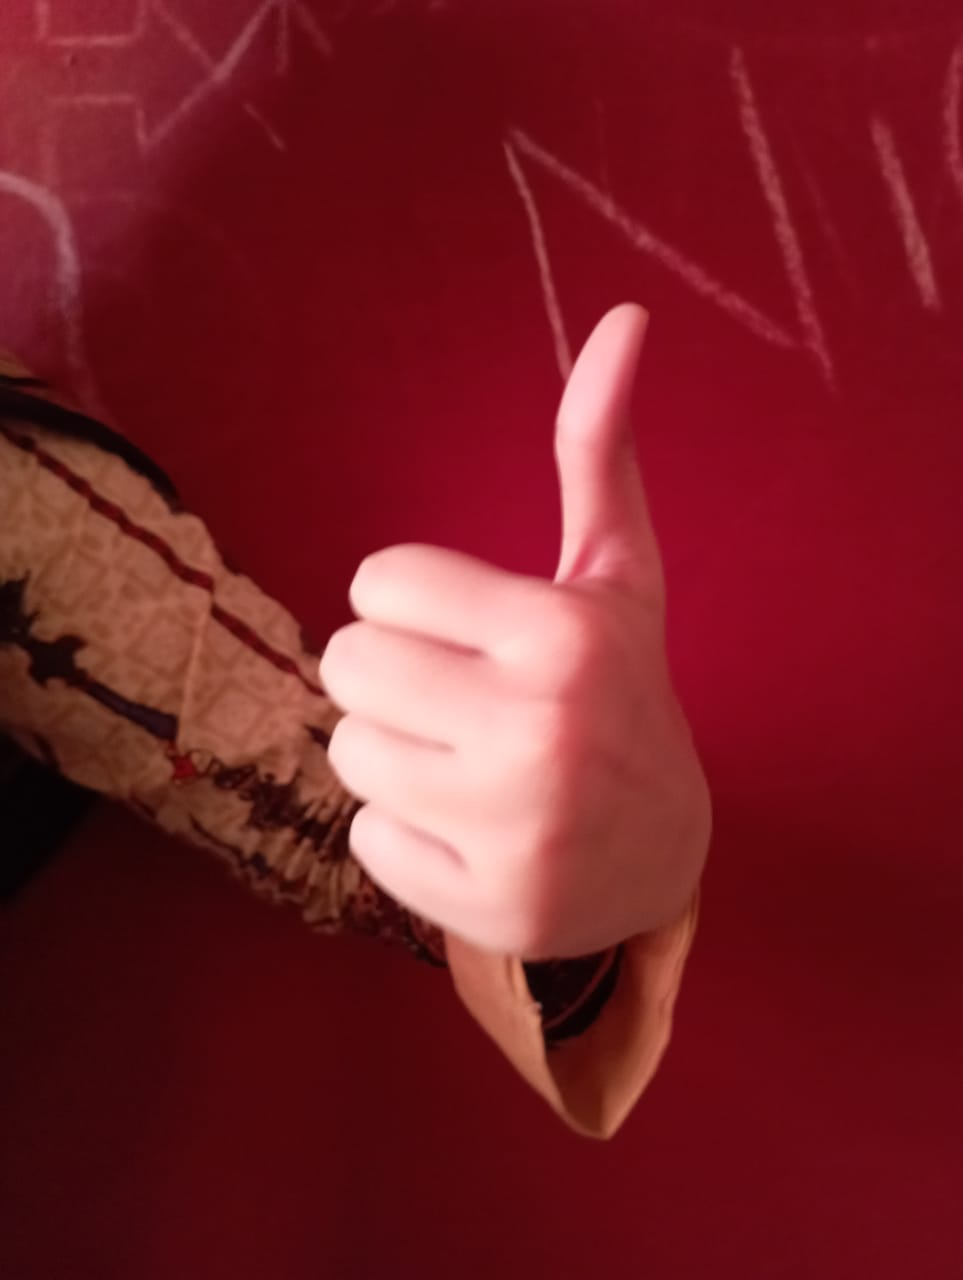I Like It: (307, 296, 713, 974)
